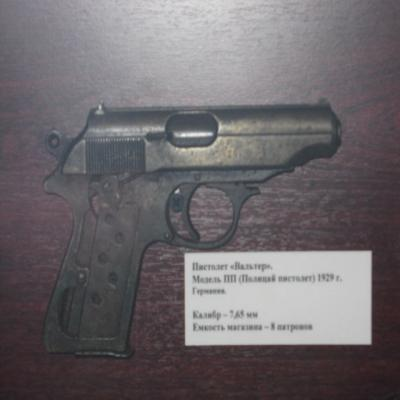weapon: (42, 102, 343, 360)
